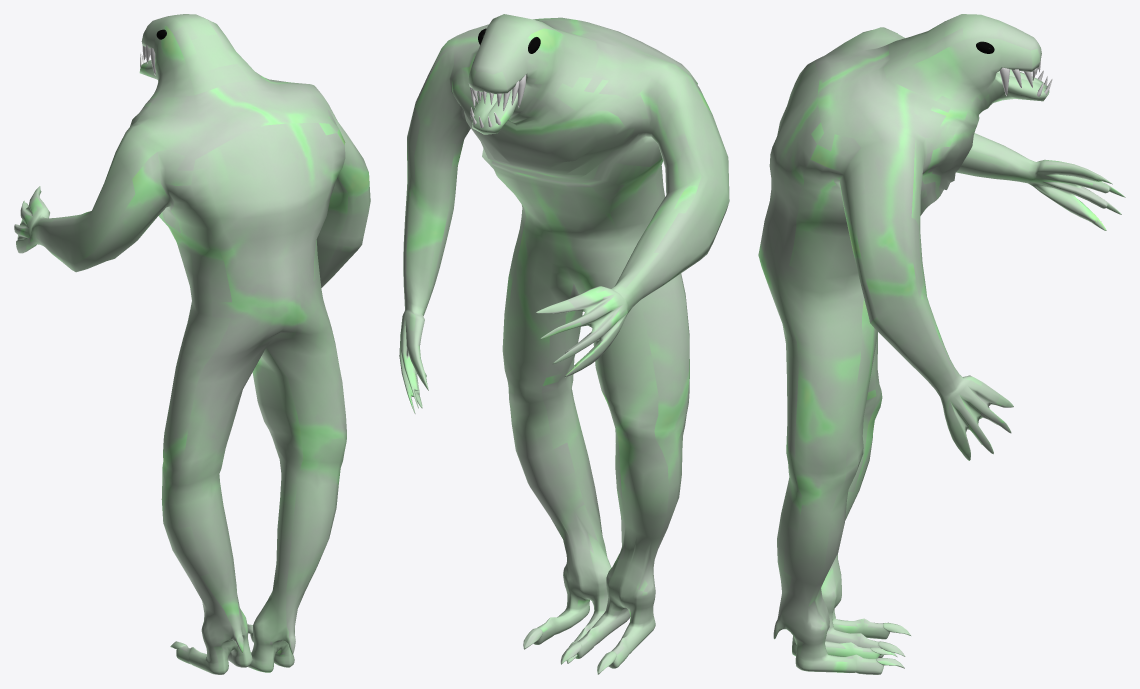
File: Berserkercorrer.0003.obj
The picture shows the model from 3 angles, left to right: view 1: azimuth 30°, elevation 25°; view 2: azimuth 150°, elevation 25°; view 3: azimuth 270°, elevation 25°; orthographic projection. The views are drawn at different scales.
Visible parts, largest first — view 1: polySurface27; view 2: polySurface27; view 3: polySurface27.
Boxes of the visible parts, x1,y1,x2,y2 form: polySurface27: (14, 14, 370, 674); polySurface27: (399, 14, 729, 674); polySurface27: (758, 14, 1125, 674).
Size of the model in its own units: 11.52 by 23.9 by 12.28.
Materials: 1 (1 with a texture image).
